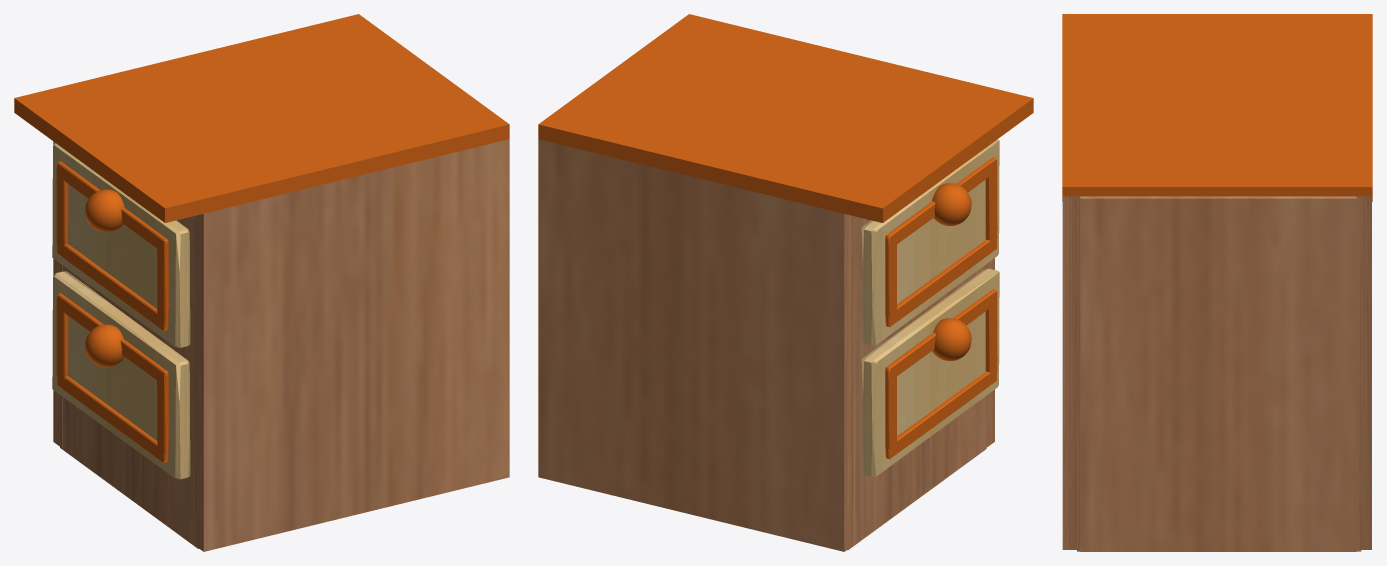
The model's file is cajonera.obj.
3 renders of one model, left to right at view 1: azimuth 30°, elevation 25°; view 2: azimuth 150°, elevation 25°; view 3: azimuth 270°, elevation 25°, orthographic. The views are drawn at different scales.
Visible parts, largest first — view 1: cuarto:cuarto:polySurface7193polySurface7719; view 2: cuarto:cuarto:polySurface7193polySurface7719; view 3: cuarto:cuarto:polySurface7193polySurface7719.
Boxes of the visible parts, box(x1,y1,x2,y2) form: cuarto:cuarto:polySurface7193polySurface7719: box(14, 14, 509, 551); cuarto:cuarto:polySurface7193polySurface7719: box(538, 14, 1033, 551); cuarto:cuarto:polySurface7193polySurface7719: box(1062, 14, 1372, 551).
Size of the model in its own units: 1.41 by 1.35 by 1.03.
Materials: 4 (4 with a texture image).
